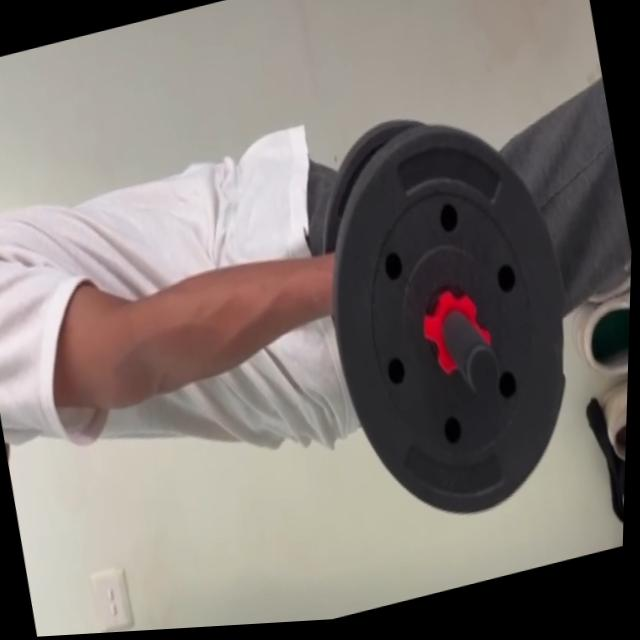dumbbell: (293, 80, 604, 545)
